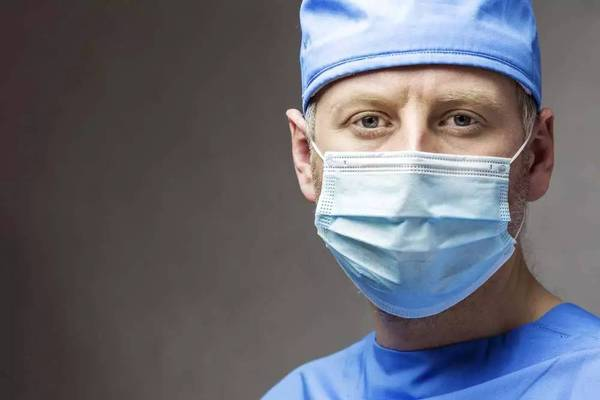mask: (298, 69, 540, 314)
